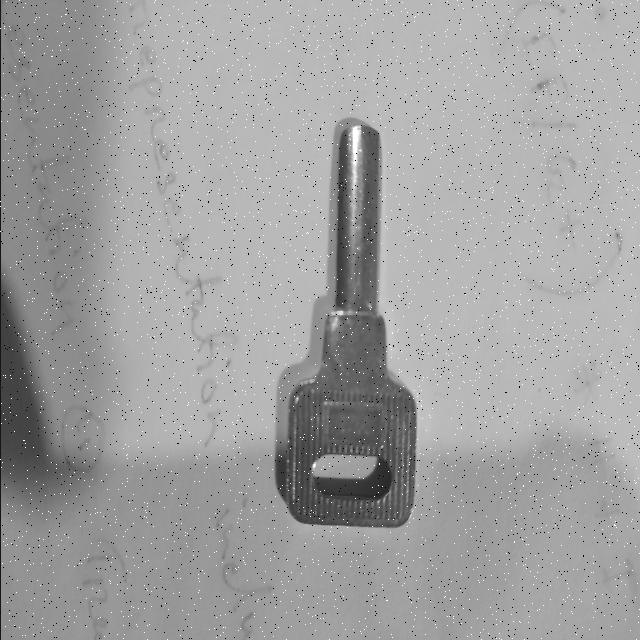key: (284, 124, 415, 527)
